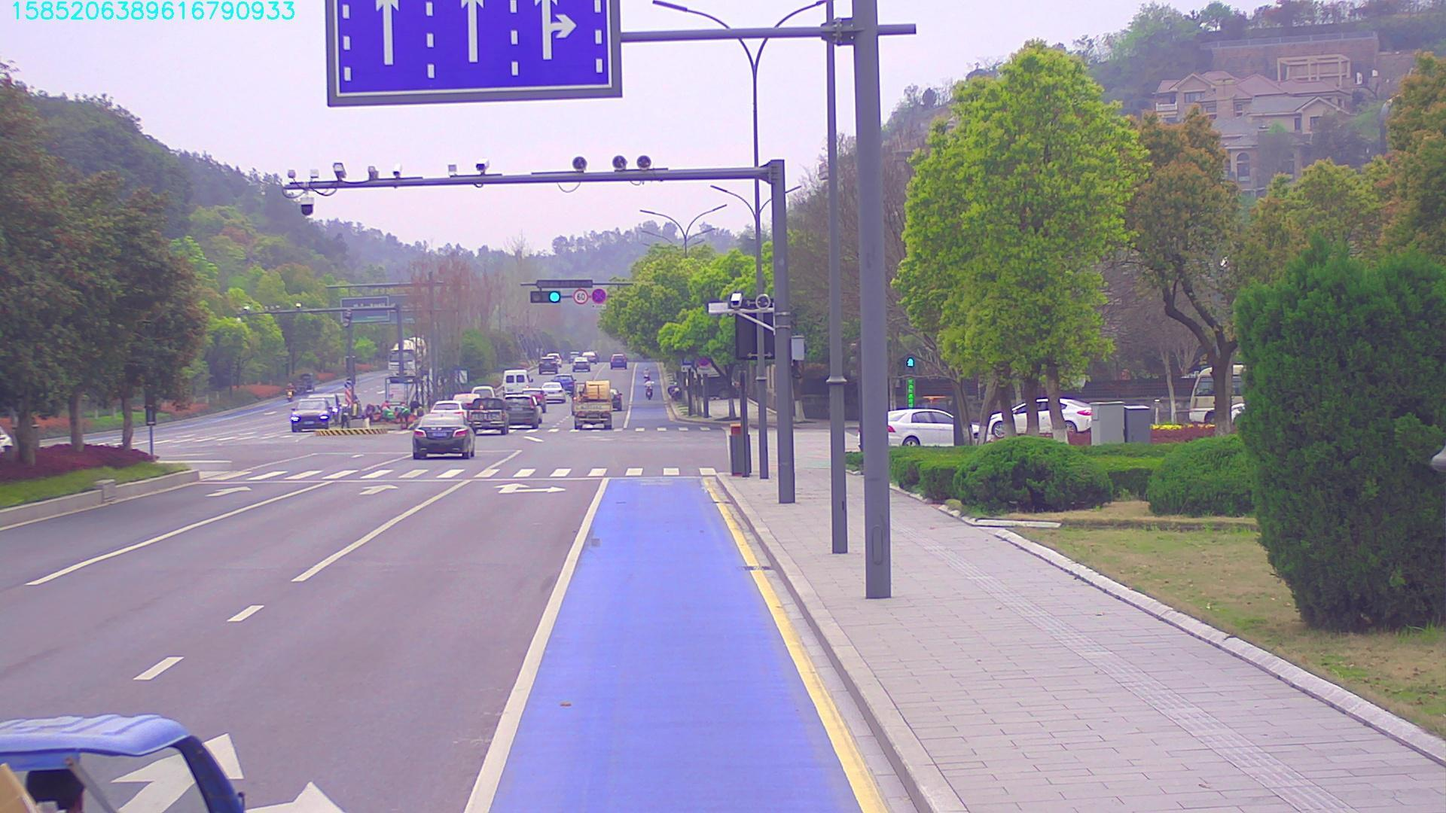green: (525, 286, 561, 306)
